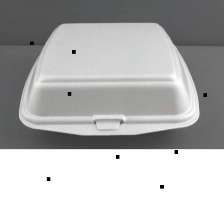foam_box: (11, 14, 206, 141)
